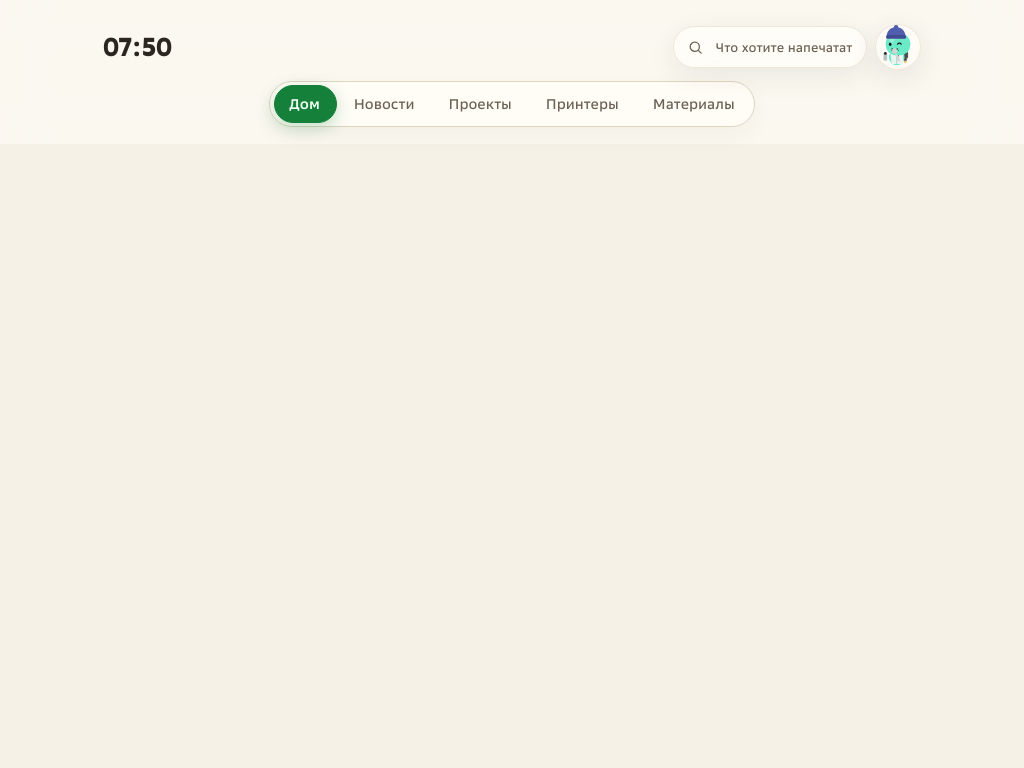
Test: HomeHeader — четыре режима оболочки › быстрая настройка «Данные» открывает модалку правки профиля
This screenshot has width=1024, height=768.
(page scrolled)
Click the button named "Профиль" at point(898, 47), box [878,27,918,67]
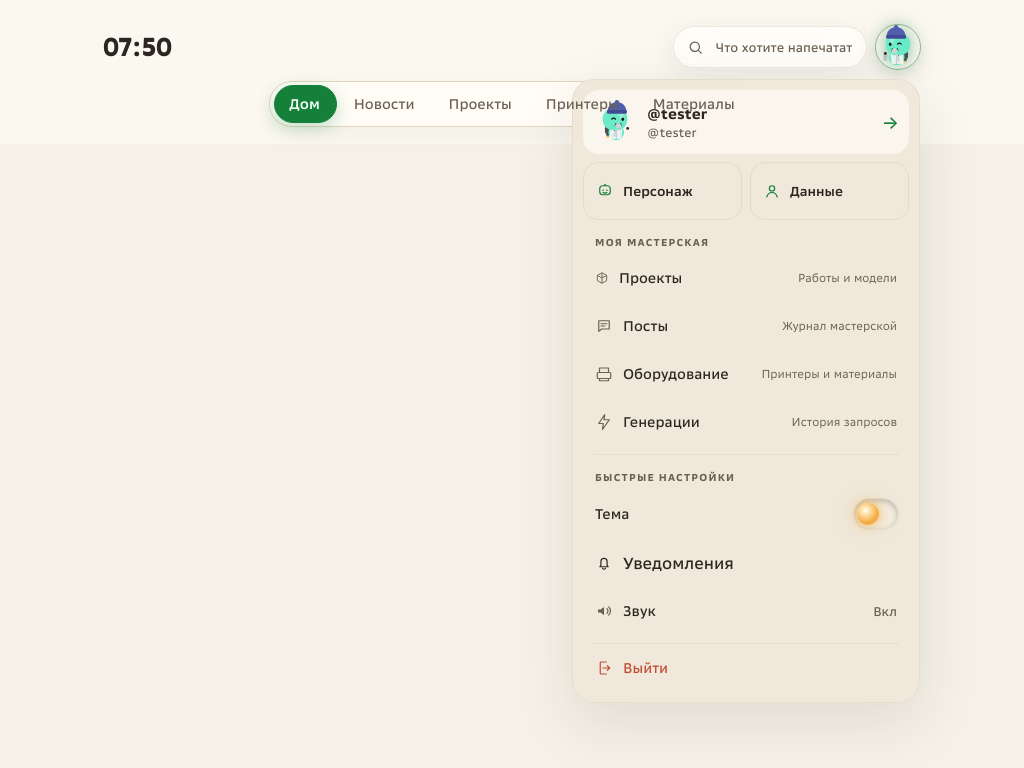
Click the button "Данные" at point(830, 191), box [750,162,909,220]
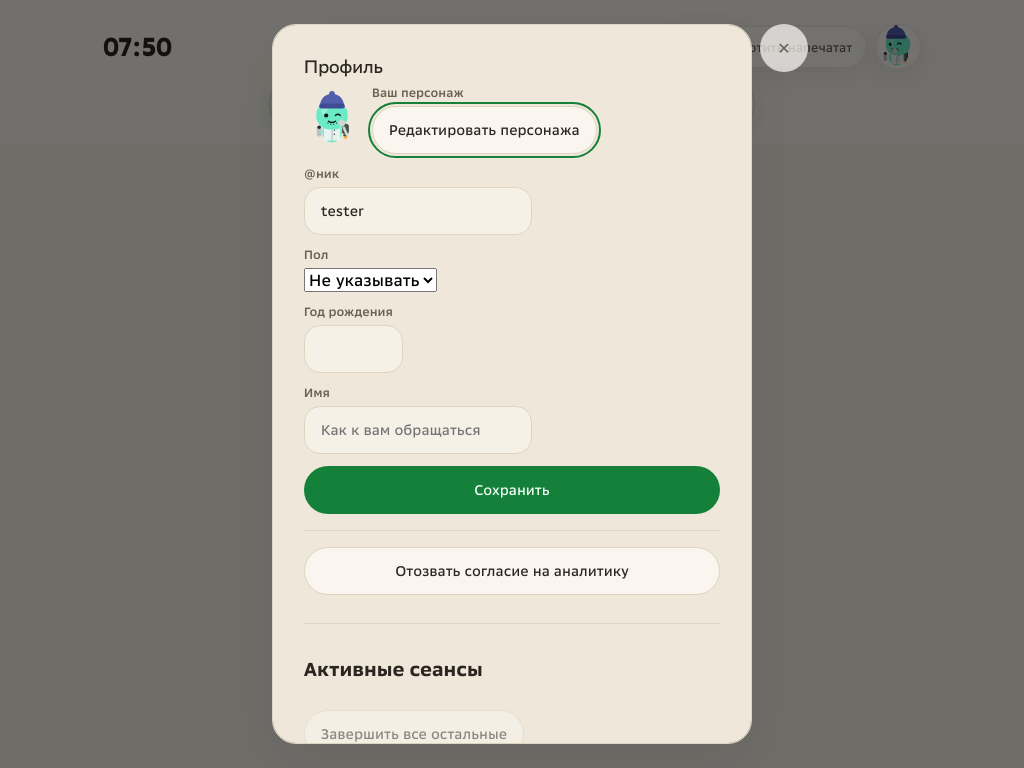
Result: the field labelled "@ник" is shown at [304,187,532,235]
